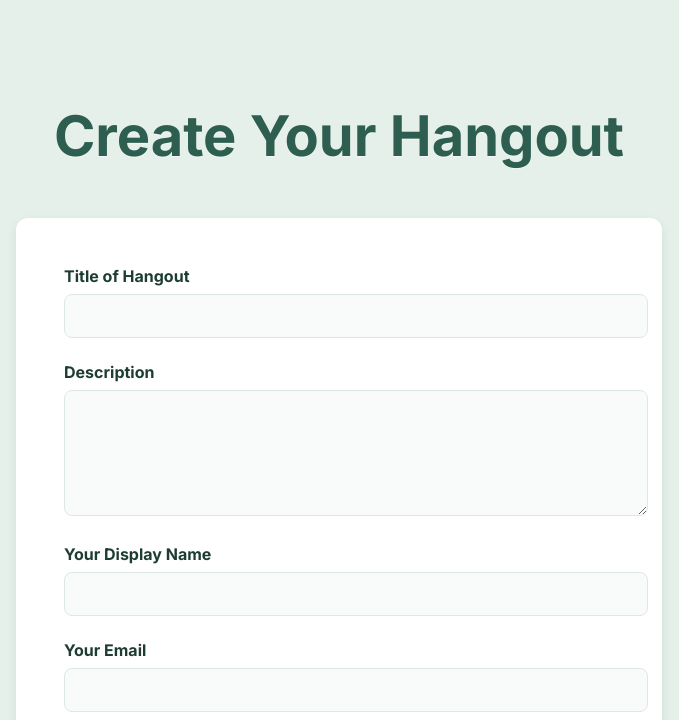
Test: CreateEvent › Display Name validation › shows error when display name has invalid characters
Type "User#$%" into the field labelled "Your Display Name".
click(356, 594); type("User#$%")  # box [64,572,648,616]
(page scrolled)
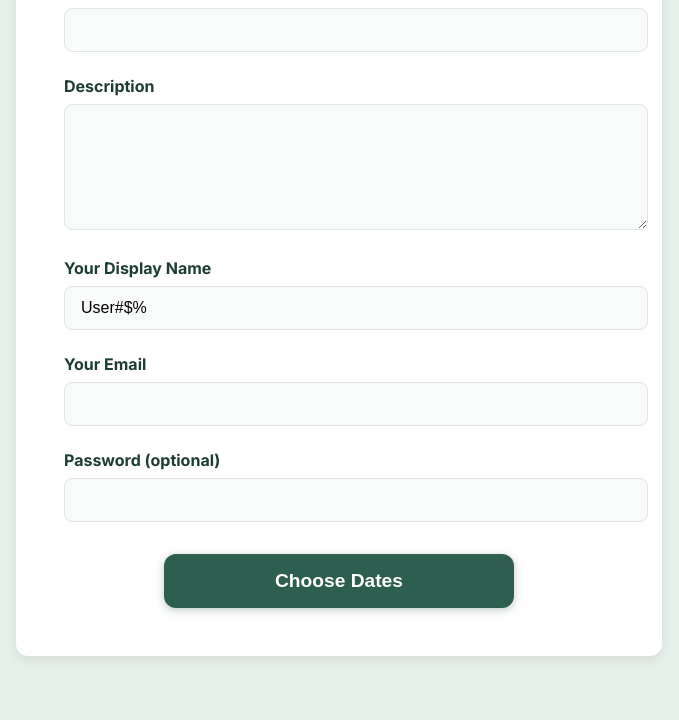
Click the button "Choose Dates".
click(339, 580)  # box [164,554,514,608]
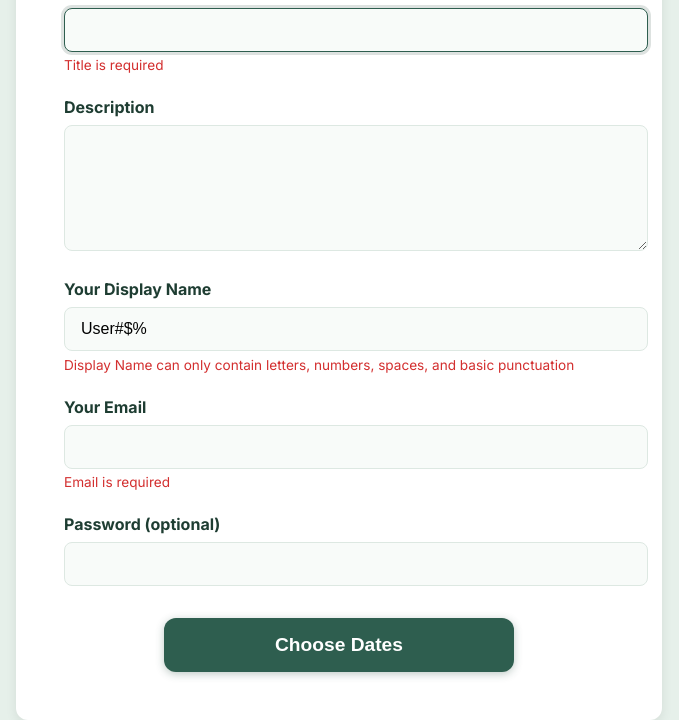
Expected: the text "Display Name can only contain letters, numbers, spaces, and basic punctuation" is shown, [64,357,614,373]
